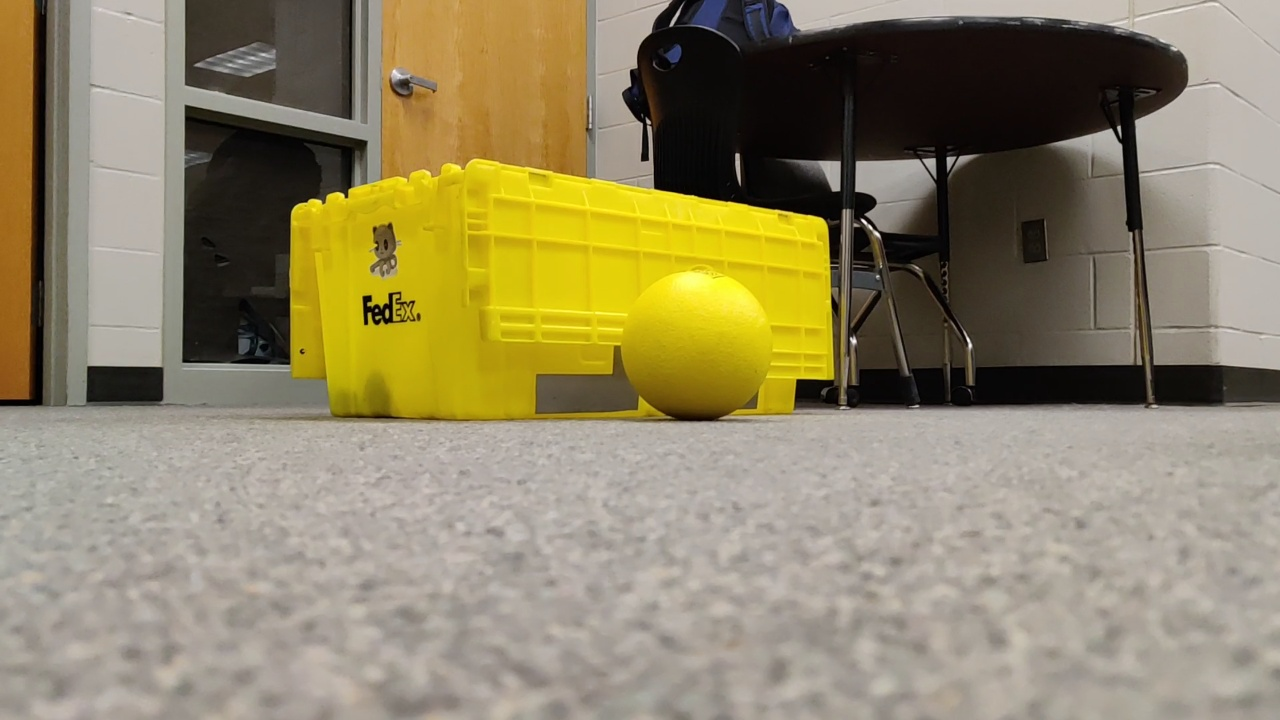Ball: (618, 268, 772, 435)
